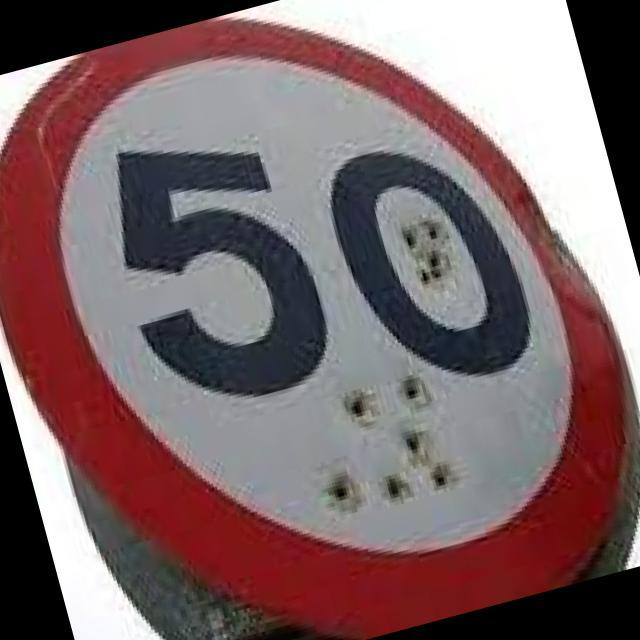obstructed_road_sign: (0, 22, 632, 625)
